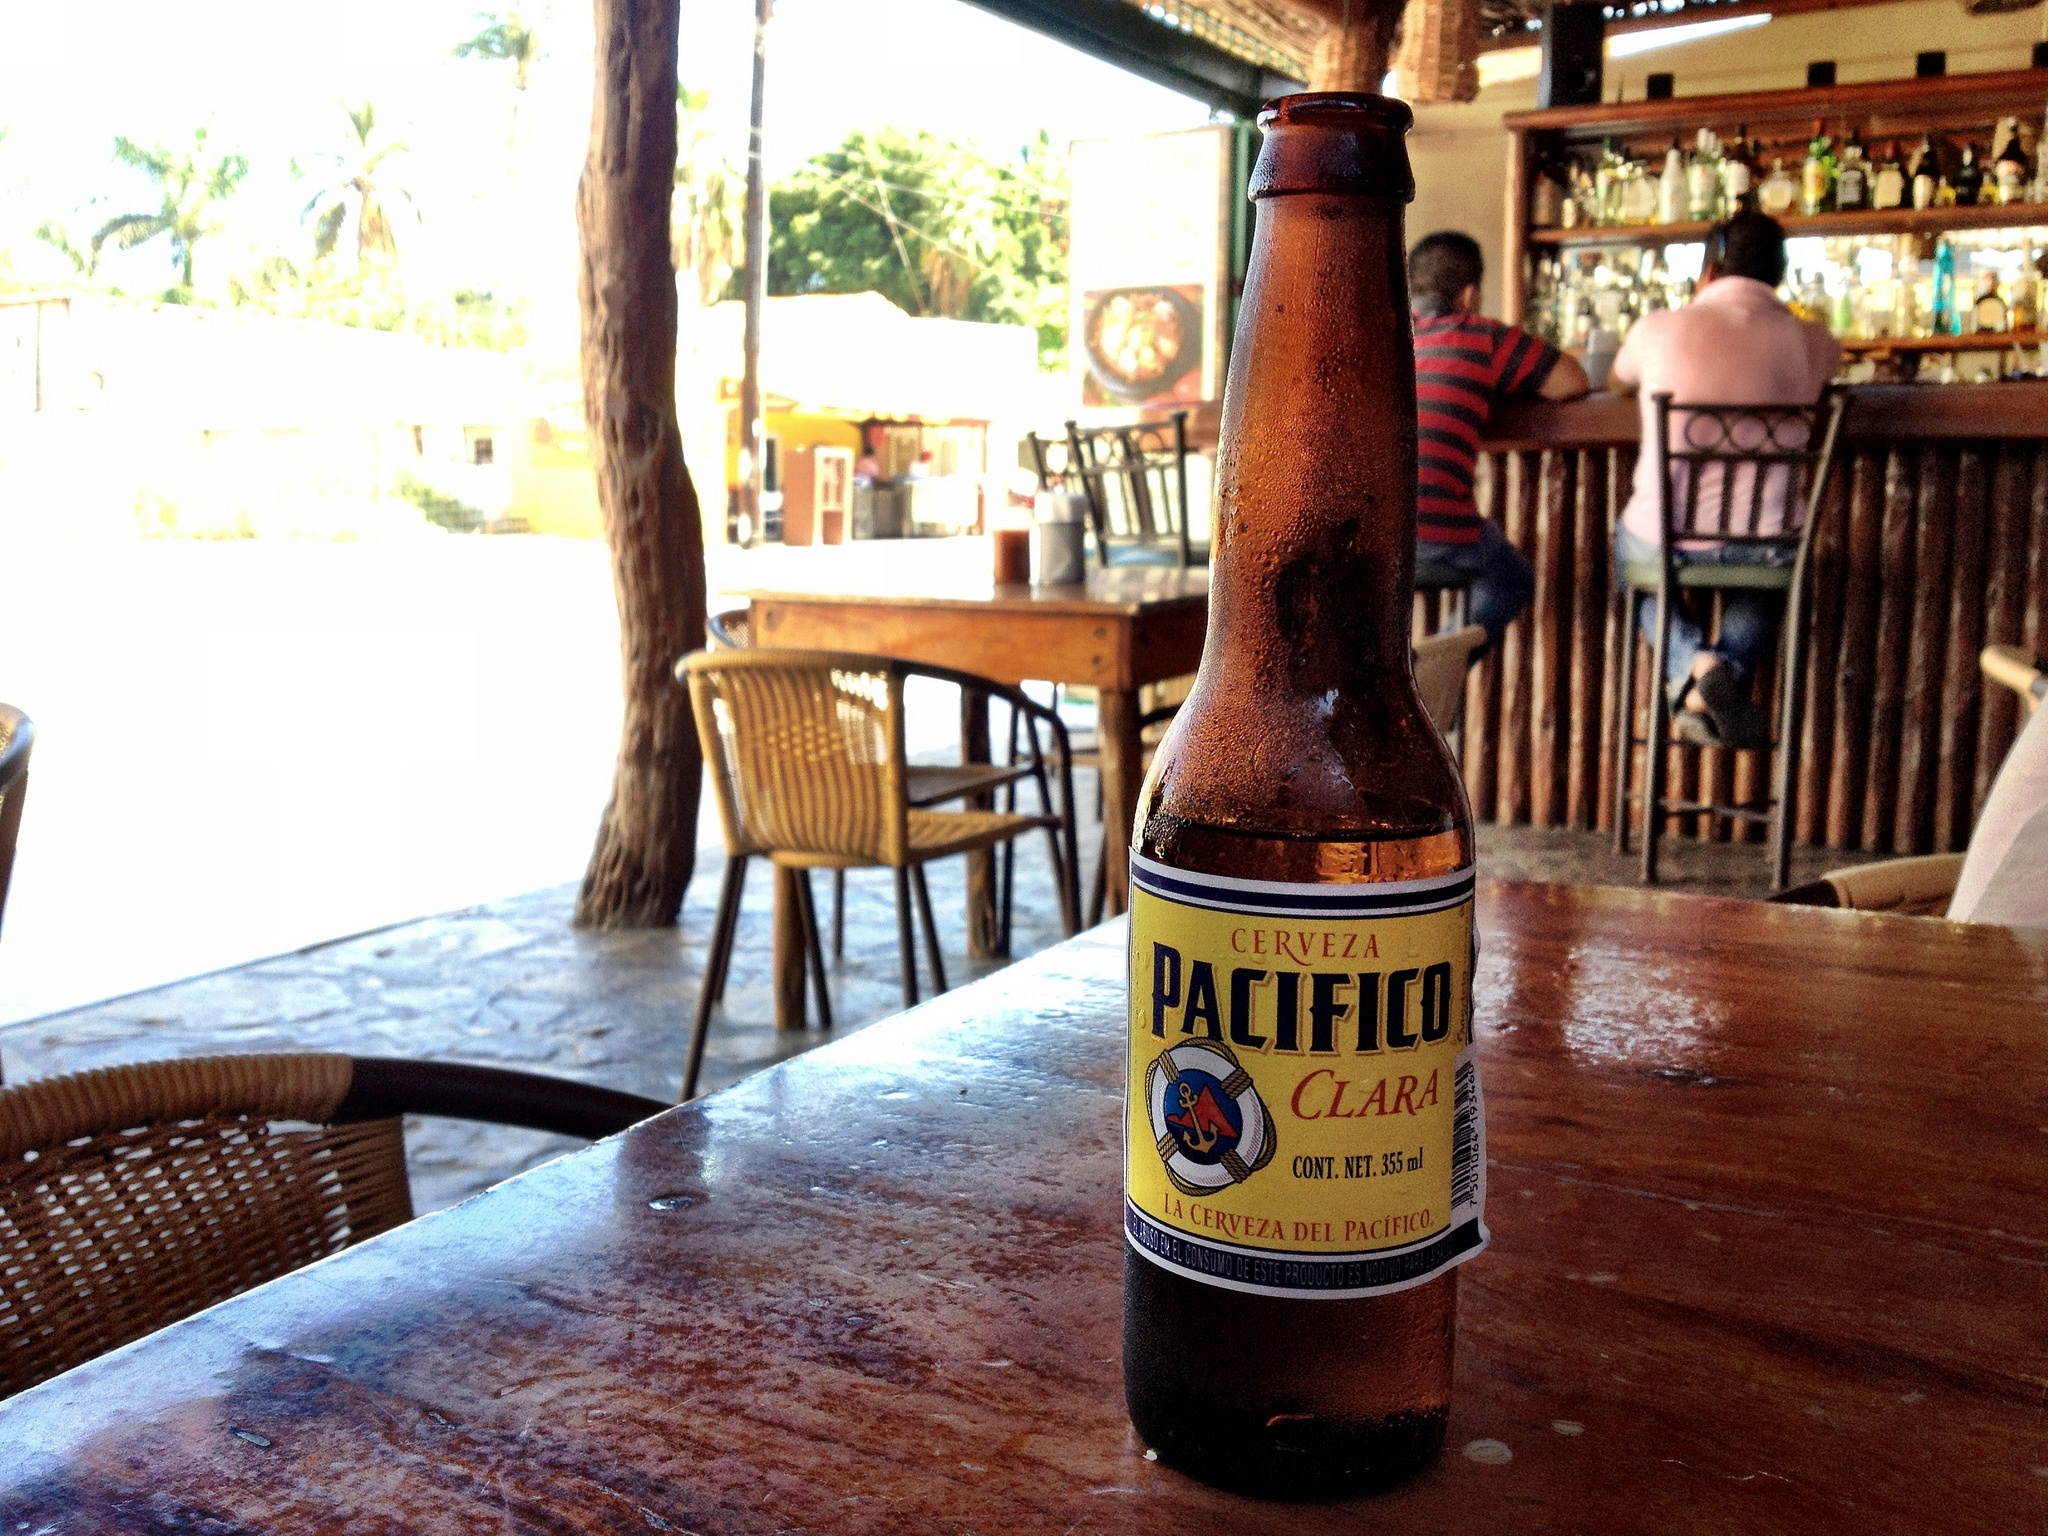beerBottle: (1129, 94, 1471, 1494)
